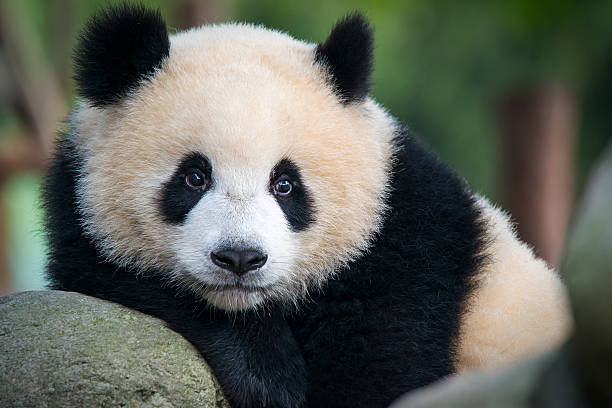panda: (32, 4, 435, 327)
